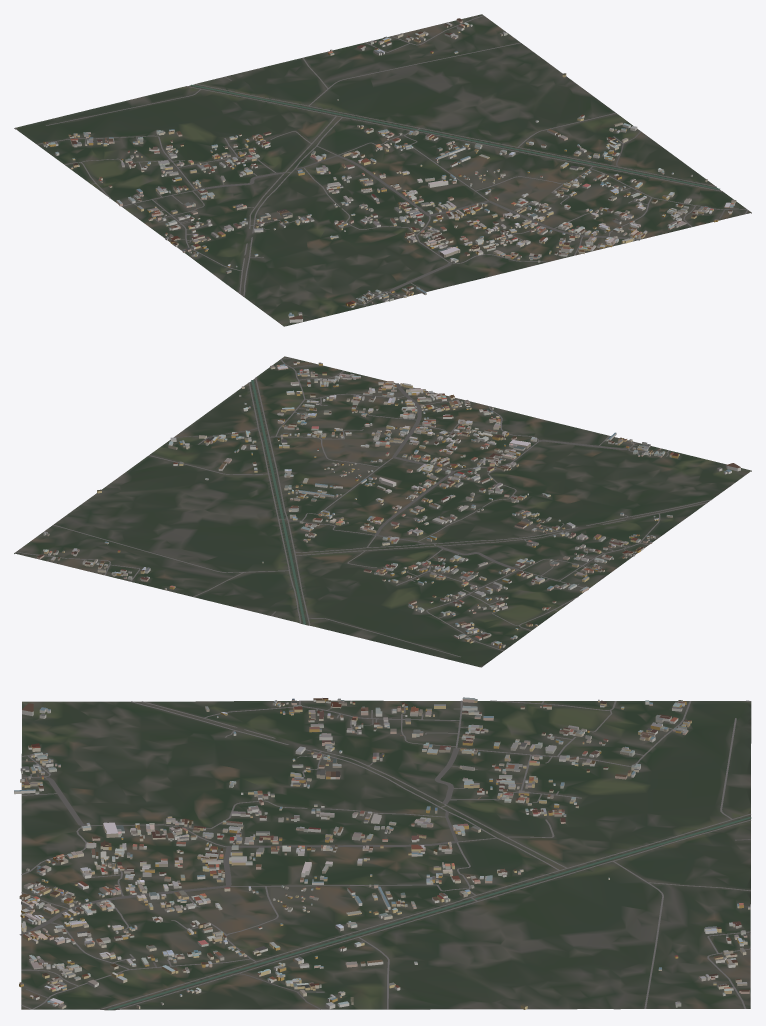
3 views of the same model, one above another, from view 1: azimuth 30°, elevation 25°; view 2: azimuth 150°, elevation 25°; view 3: azimuth 270°, elevation 25° (orthographic). The views are drawn at different scales.
Parts seen in each view (by area): view 1: ground, buildings, roads, water; view 2: ground, buildings, roads, water; view 3: ground, buildings, roads, water.
Part boxes in pixels (<box>): ground: <box>15,14,751,326</box>; buildings: <box>43,18,736,322</box>; roads: <box>14,15,748,306</box>; water: <box>190,84,719,189</box>; ground: <box>14,356,751,667</box>; buildings: <box>37,361,740,648</box>; roads: <box>16,357,711,667</box>; water: <box>251,380,305,624</box>; ground: <box>21,700,751,1010</box>; buildings: <box>14,697,750,1009</box>; roads: <box>19,700,751,1009</box>; water: <box>107,817,751,1010</box>.
Size of the model in its own units: 1404 by 15.11 by 1417.
